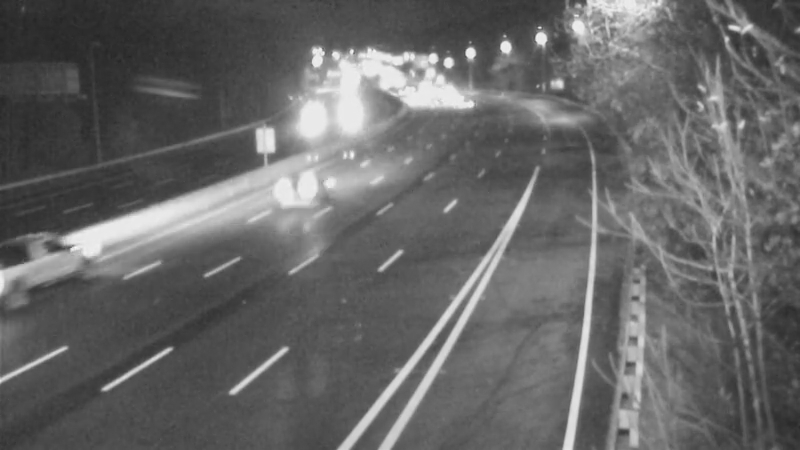vehicle: (260, 150, 340, 230), (1, 230, 78, 310), (386, 68, 436, 118), (436, 83, 486, 133), (406, 79, 456, 129), (281, 95, 331, 145), (327, 87, 377, 137)
